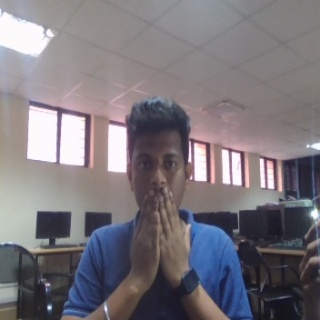Thank You: (129, 187, 198, 295)
